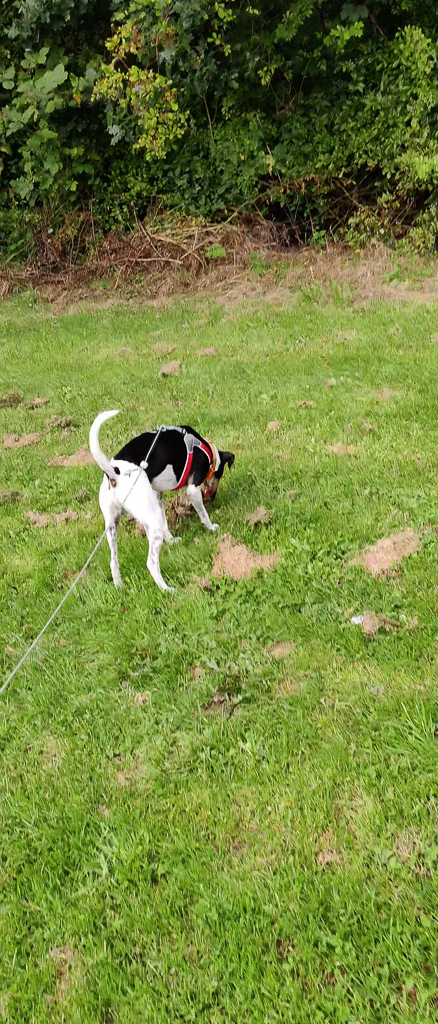Dog: (78, 401, 245, 602)
